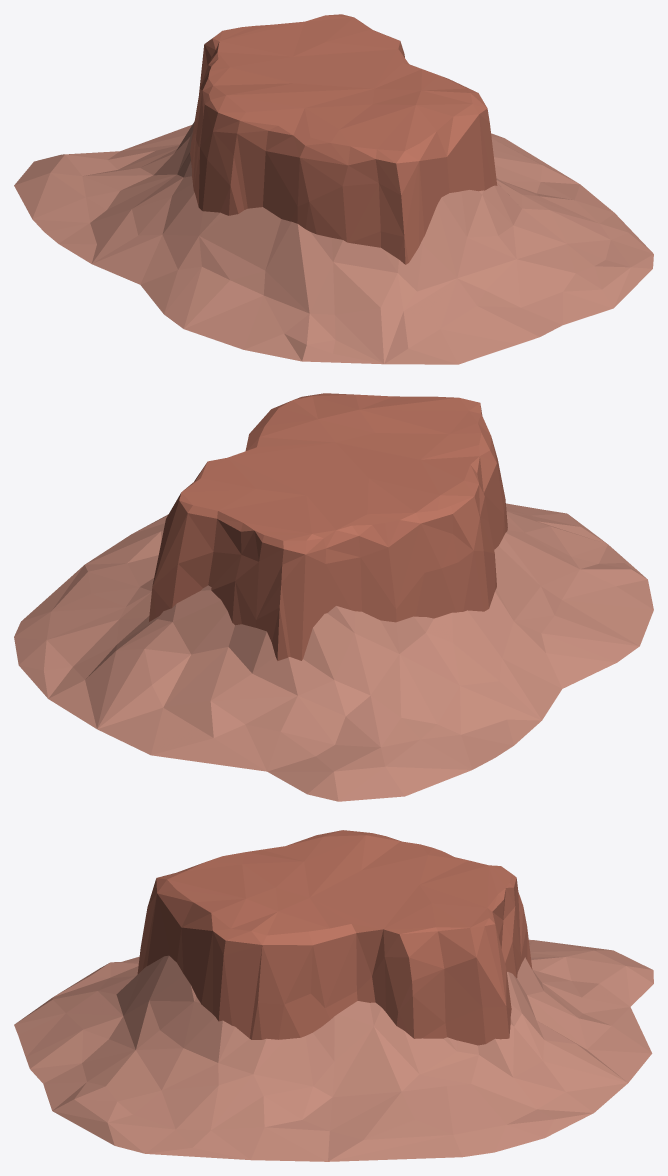
File: crag_002.fbx
3 renders of one model, top to bottom at view 1: azimuth 30°, elevation 25°; view 2: azimuth 150°, elevation 25°; view 3: azimuth 270°, elevation 25°, orthographic. The views are drawn at different scales.
Parts seen in each view (by area): view 1: crag_002; view 2: crag_002; view 3: crag_002.
Part boxes in pixels (left/top/right/bottom): crag_002: left=14, top=14, right=653, bottom=364; crag_002: left=14, top=393, right=653, bottom=801; crag_002: left=14, top=830, right=653, bottom=1161.
Bounding box in the file's own units: 5281 × 6358 × 1770.
